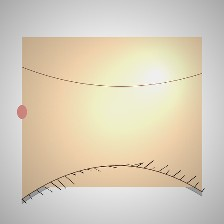hemorrhage_spot: (110, 102, 172, 152)
